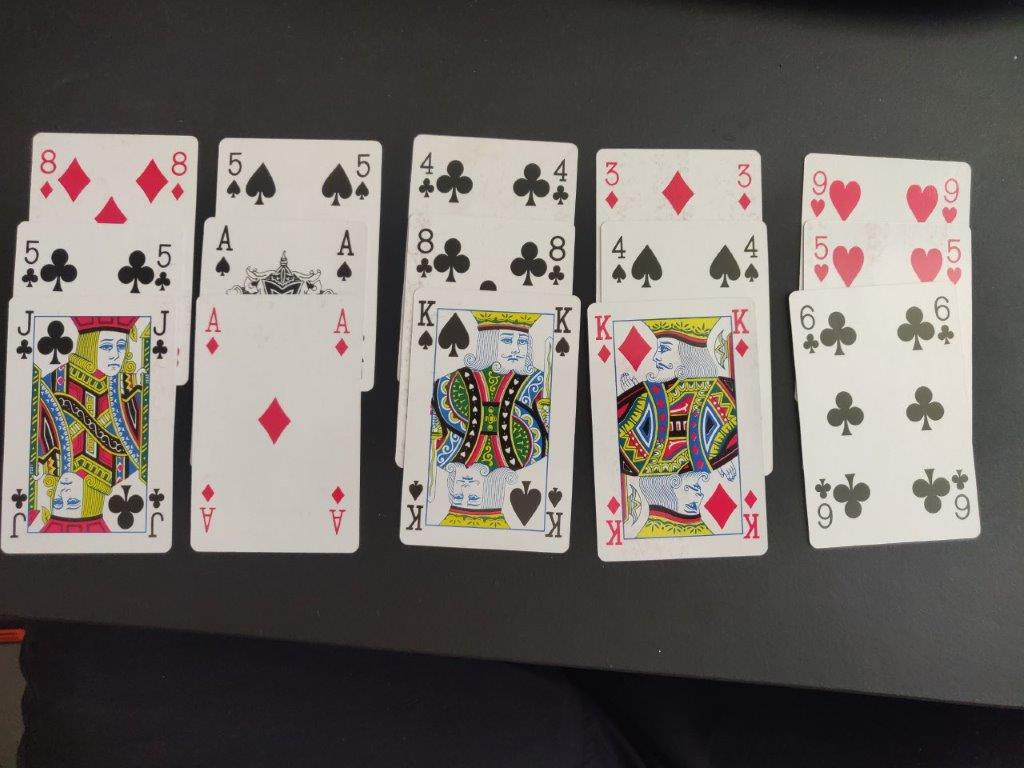3D: (600, 157, 624, 212), (734, 159, 756, 211)
4C: (416, 148, 439, 201), (550, 154, 572, 207)
4S: (606, 232, 629, 290), (741, 231, 762, 289)
5C: (152, 237, 176, 299), (18, 236, 42, 293)
5H: (810, 231, 835, 287), (943, 235, 966, 286)
5S: (353, 149, 374, 204), (224, 149, 245, 201)
6C: (794, 300, 823, 359), (932, 291, 957, 350)
8C: (544, 230, 571, 287), (415, 224, 434, 281)
8D: (166, 146, 191, 204), (35, 146, 59, 204)
9H: (938, 174, 965, 230), (807, 169, 832, 222)
AD: (329, 301, 354, 358), (203, 304, 226, 361)
AS: (335, 224, 356, 284), (214, 221, 232, 279)
JC: (12, 306, 39, 365), (150, 304, 174, 365)
KD: (590, 309, 616, 368), (730, 302, 754, 363)
KS: (414, 292, 439, 358), (553, 302, 576, 357)
